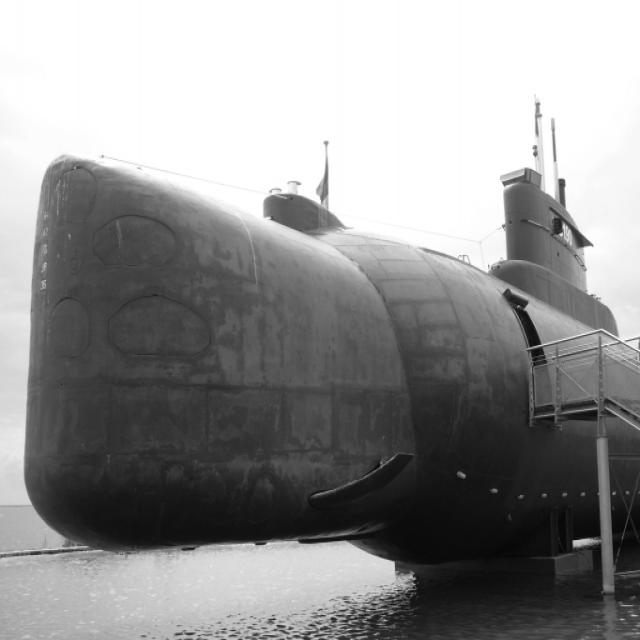submarine: (36, 123, 640, 578)
